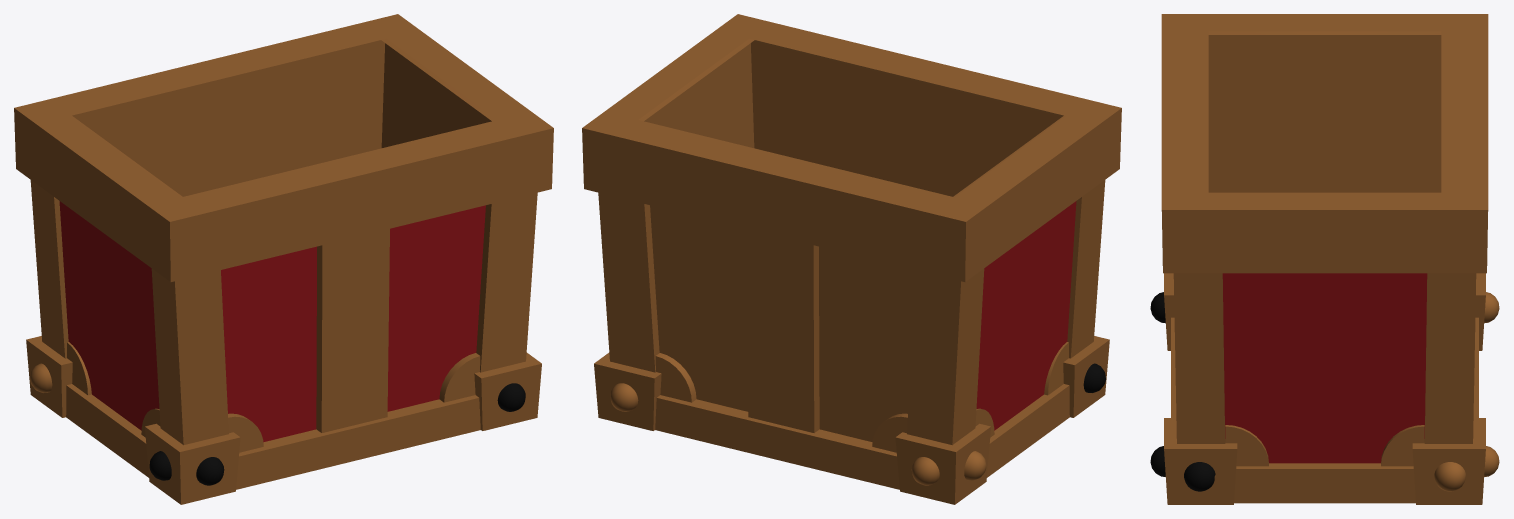
The model's file is chest all.fbx.
3 views of the same model, side by side, from view 1: azimuth 30°, elevation 25°; view 2: azimuth 150°, elevation 25°; view 3: azimuth 270°, elevation 25° (orthographic). The views are drawn at different scales.
Parts seen in each view (by area): view 1: base_low.002; view 2: base_low.002; view 3: base_low.002.
Boxes of the visible parts, <box> form: base_low.002: <box>14,14,553,504</box>; base_low.002: <box>582,14,1121,504</box>; base_low.002: <box>1150,14,1499,504</box>.
Size of the model in its own units: 276 by 199 by 207.
